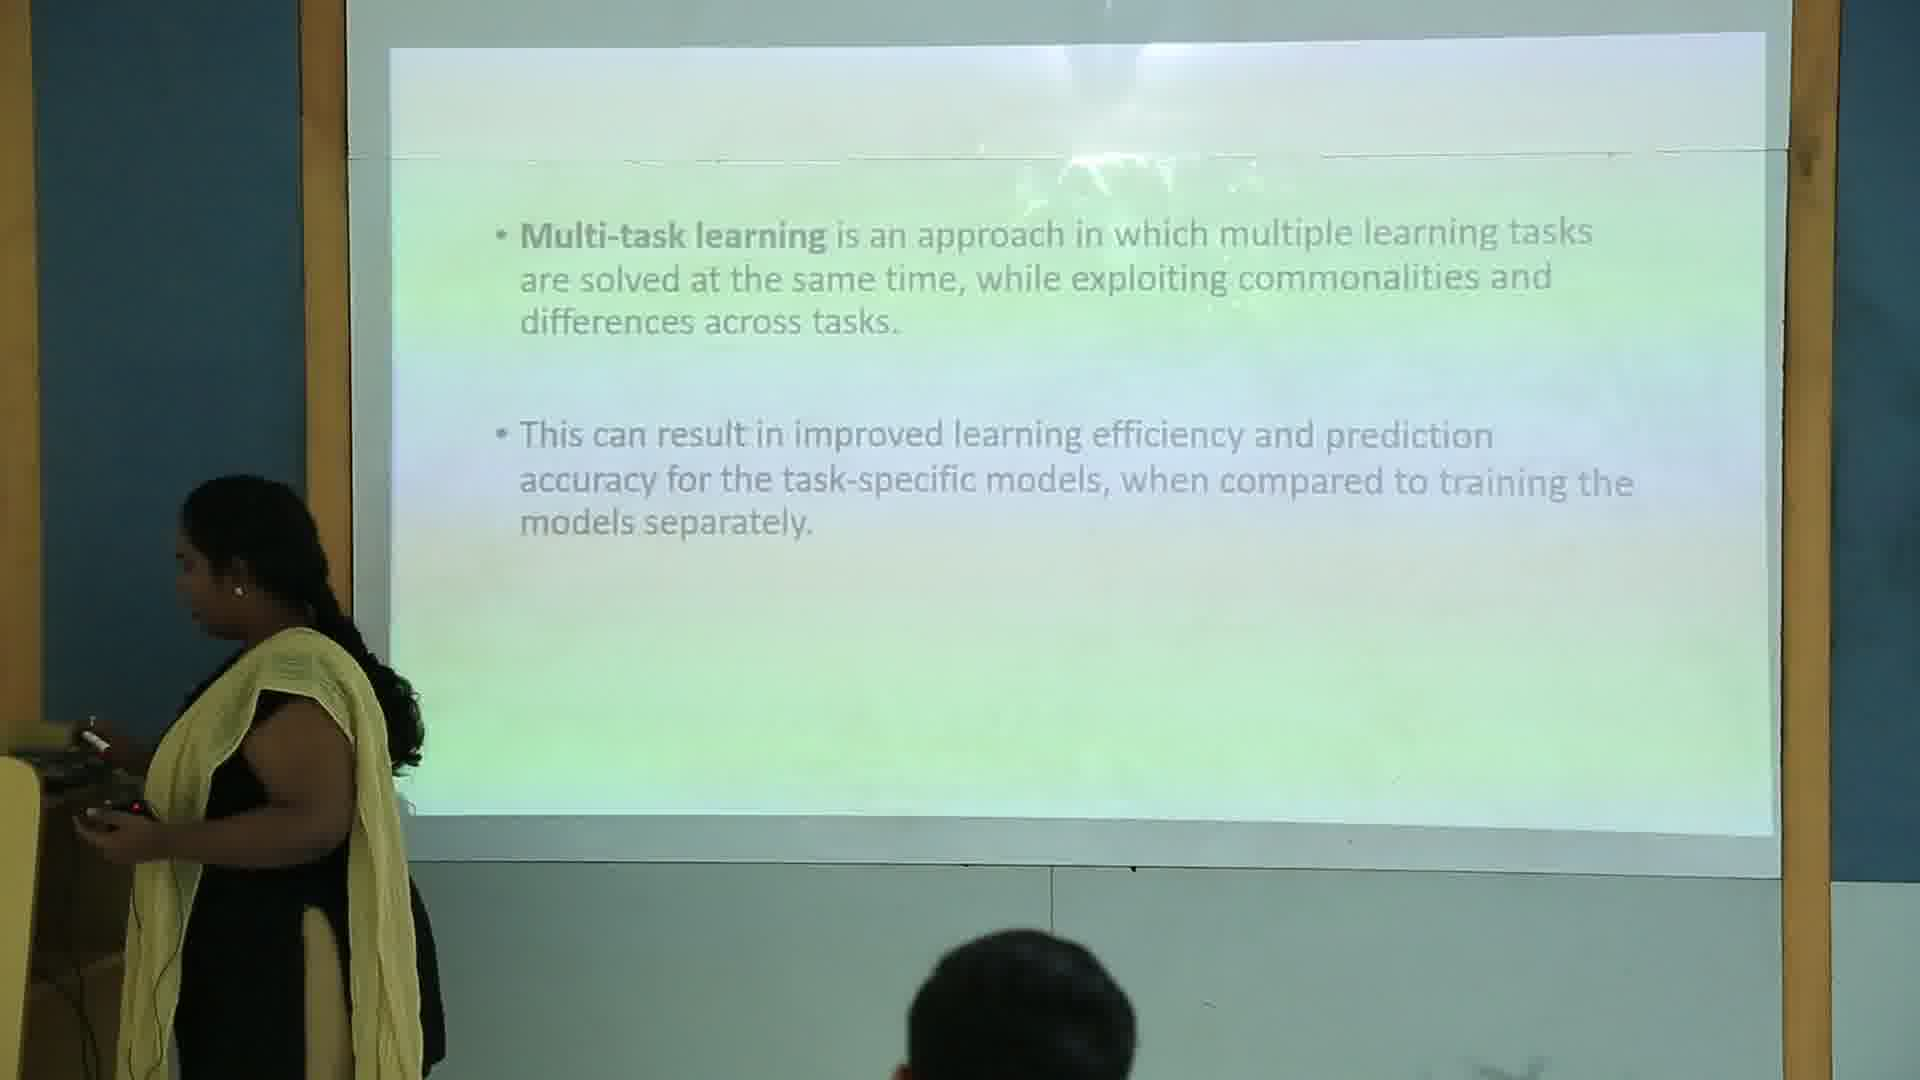slide: (390, 34, 1778, 837)
